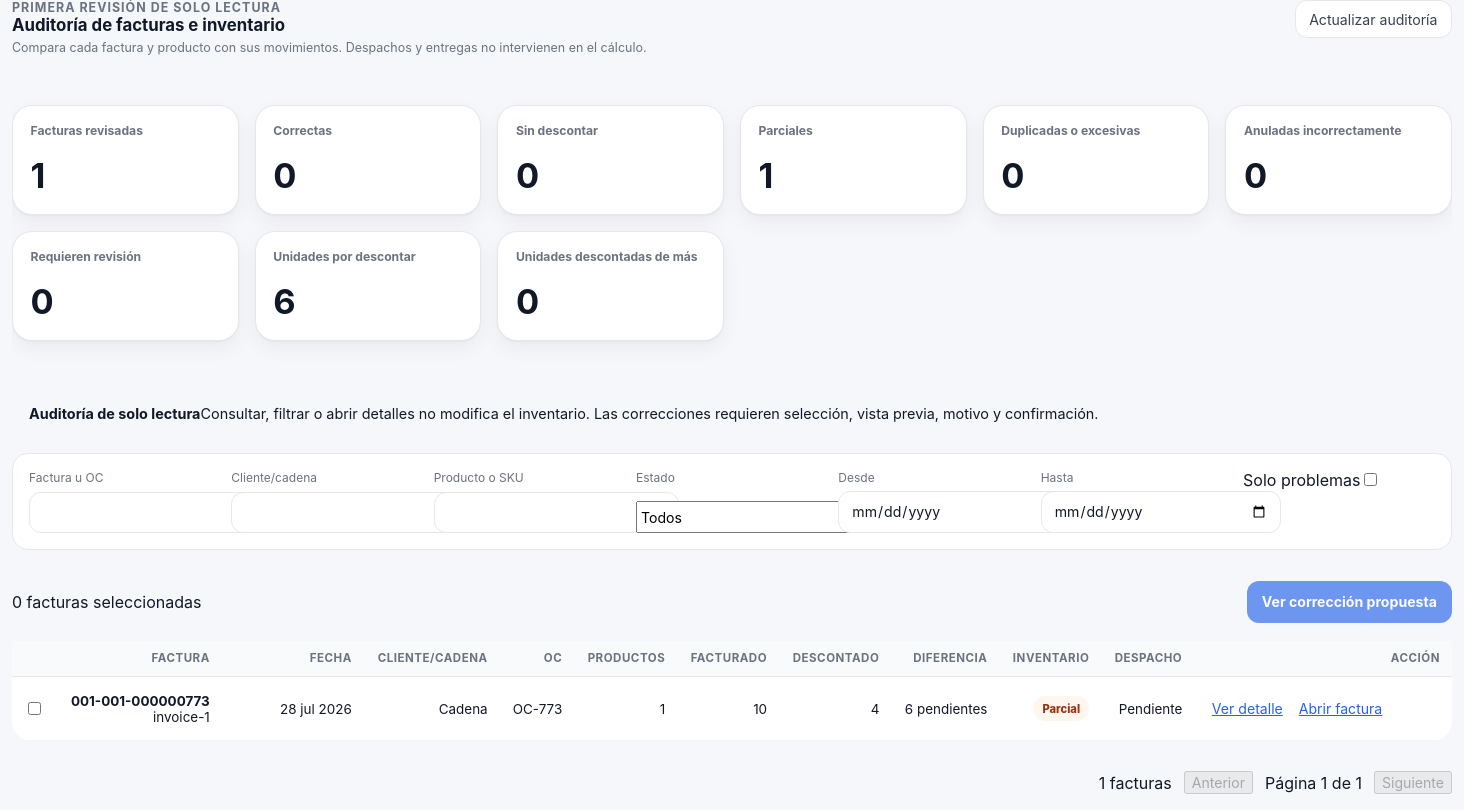
it: InvoiceInventoryAudit › presenta el reporte completo sin modificar inventario
Check: the text "001-001-000000773" is shown, box [69,693,210,709]
Check: the text "6 pendientes" is shown, box [891,677,999,741]
Click the button "Ver detalle" at [1247, 709], box [1206,697,1288,720]
(page scrolled)
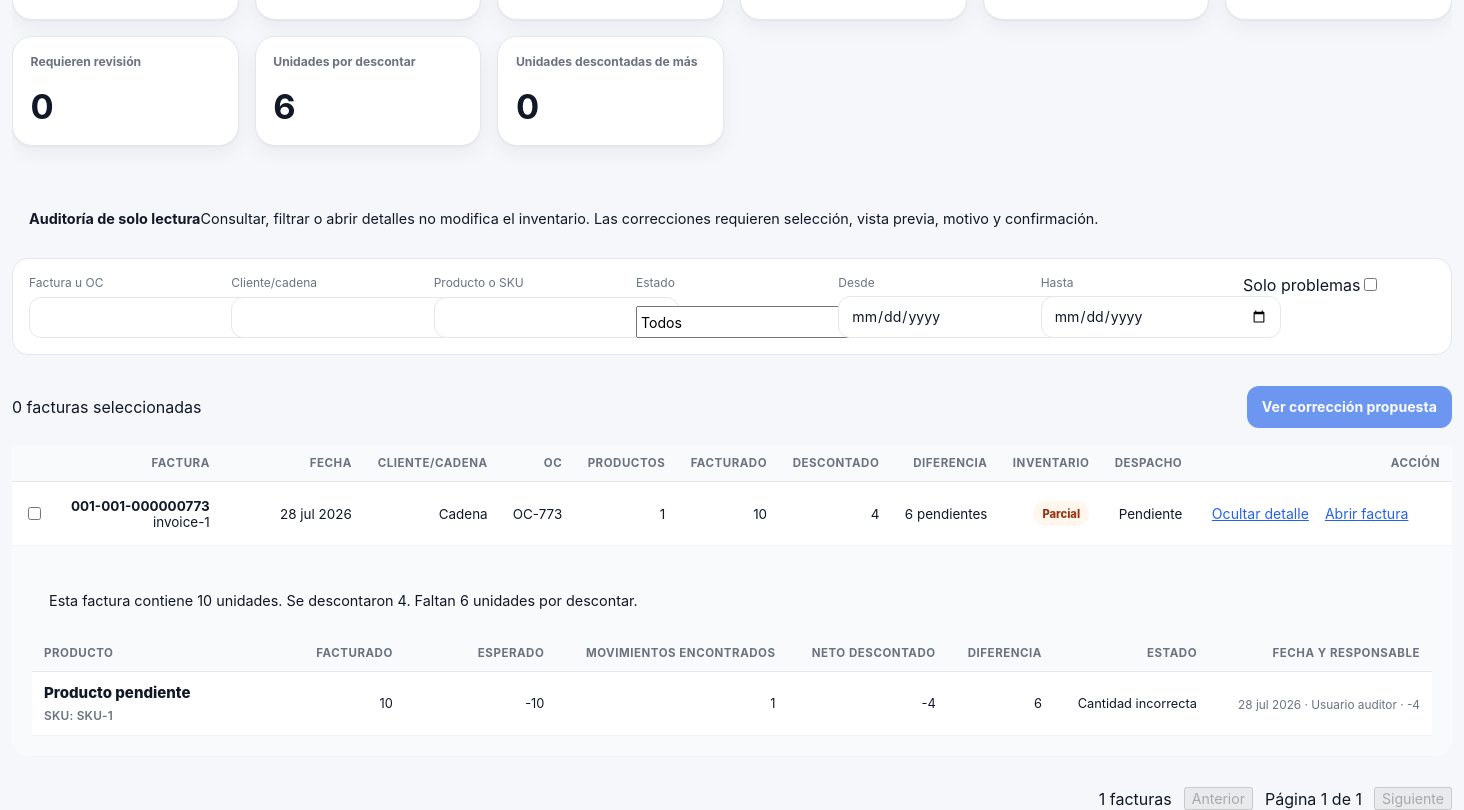
Check: the text "Producto pendiente" is shown, box [44,682,190,703]
Check: the text "28 jul 2026 · Usuario auditor · -4" is shown, box [1221,698,1420,712]
